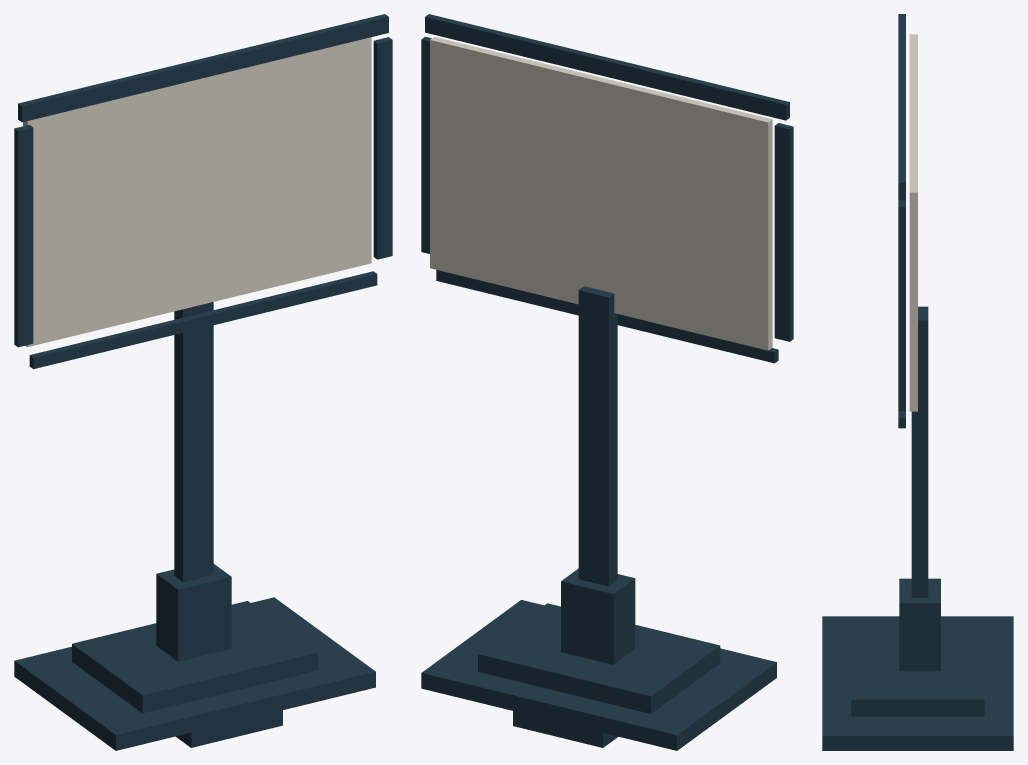
The picture shows the model from 3 angles, left to right: view 1: azimuth 30°, elevation 25°; view 2: azimuth 150°, elevation 25°; view 3: azimuth 270°, elevation 25°; orthographic projection. The views are drawn at different scales.
Parts seen in each view (by area): view 1: information-back, live-lower-step, live-upper-step, information-post, live-top-visor, live-mast-collar, live-bottom-strip, live-right-rail, live-left-rail, information-base; view 2: information-back, live-lower-step, live-upper-step, information-post, live-top-visor, live-mast-collar, live-left-rail, live-bottom-strip, live-right-rail, information-base; view 3: live-lower-step, live-upper-step, information-post, live-mast-collar, information-back, live-right-rail, live-top-visor.
Boxes of the visible parts, x1=… form: information-back: x1=23, y1=37, x2=371, y2=347; live-lower-step: x1=14, y1=597, x2=375, y2=750; live-upper-step: x1=72, y1=601, x2=318, y2=713; information-post: x1=174, y1=302, x2=213, y2=582; live-top-visor: x1=18, y1=14, x2=388, y2=122; live-mast-collar: x1=156, y1=564, x2=231, y2=661; live-bottom-strip: x1=29, y1=271, x2=377, y2=369; live-right-rail: x1=373, y1=37, x2=392, y2=259; live-left-rail: x1=14, y1=124, x2=33, y2=347; information-base: x1=175, y1=710, x2=282, y2=747; information-back: x1=430, y1=37, x2=772, y2=350; live-lower-step: x1=421, y1=600, x2=776, y2=750; live-upper-step: x1=478, y1=603, x2=720, y2=713; information-post: x1=578, y1=286, x2=617, y2=586; live-top-visor: x1=425, y1=14, x2=789, y2=120; live-mast-collar: x1=561, y1=568, x2=635, y2=664; live-left-rail: x1=774, y1=123, x2=793, y2=341; live-bottom-strip: x1=436, y1=269, x2=778, y2=363; live-right-rail: x1=421, y1=36, x2=431, y2=253; information-base: x1=513, y1=711, x2=617, y2=747; live-lower-step: x1=822, y1=616, x2=1013, y2=750; live-upper-step: x1=851, y1=618, x2=984, y2=716; information-post: x1=911, y1=306, x2=928, y2=597; live-mast-collar: x1=899, y1=578, x2=940, y2=671; information-back: x1=909, y1=34, x2=917, y2=411; live-right-rail: x1=898, y1=200, x2=905, y2=411; live-top-visor: x1=898, y1=14, x2=905, y2=197.
Size of the model in its own units: 0.98 by 1.63 by 0.46.
